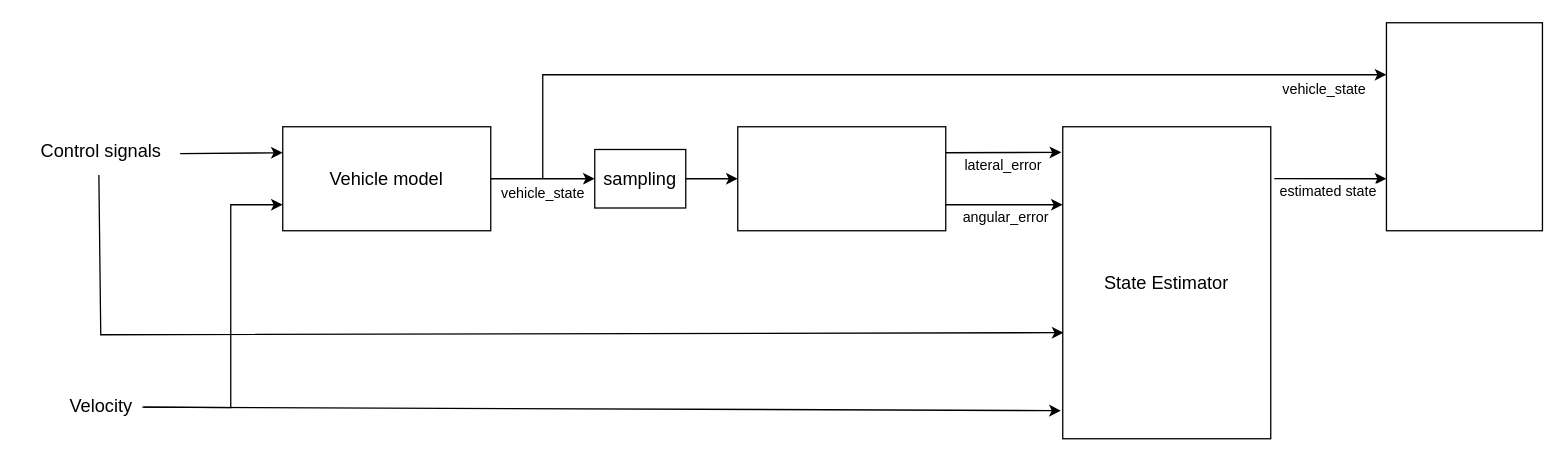
Some shapes in this 1565 by 461 pixel diagram are drawn without their labels. Here are the shapes that lost their labels. From the top down, the centre of each, then its label:
At [1463,126]: "Result".
At [841,178]: "Sensor model".
